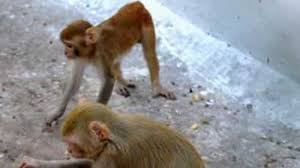monkey: (42, 0, 194, 107), (33, 96, 188, 168)
